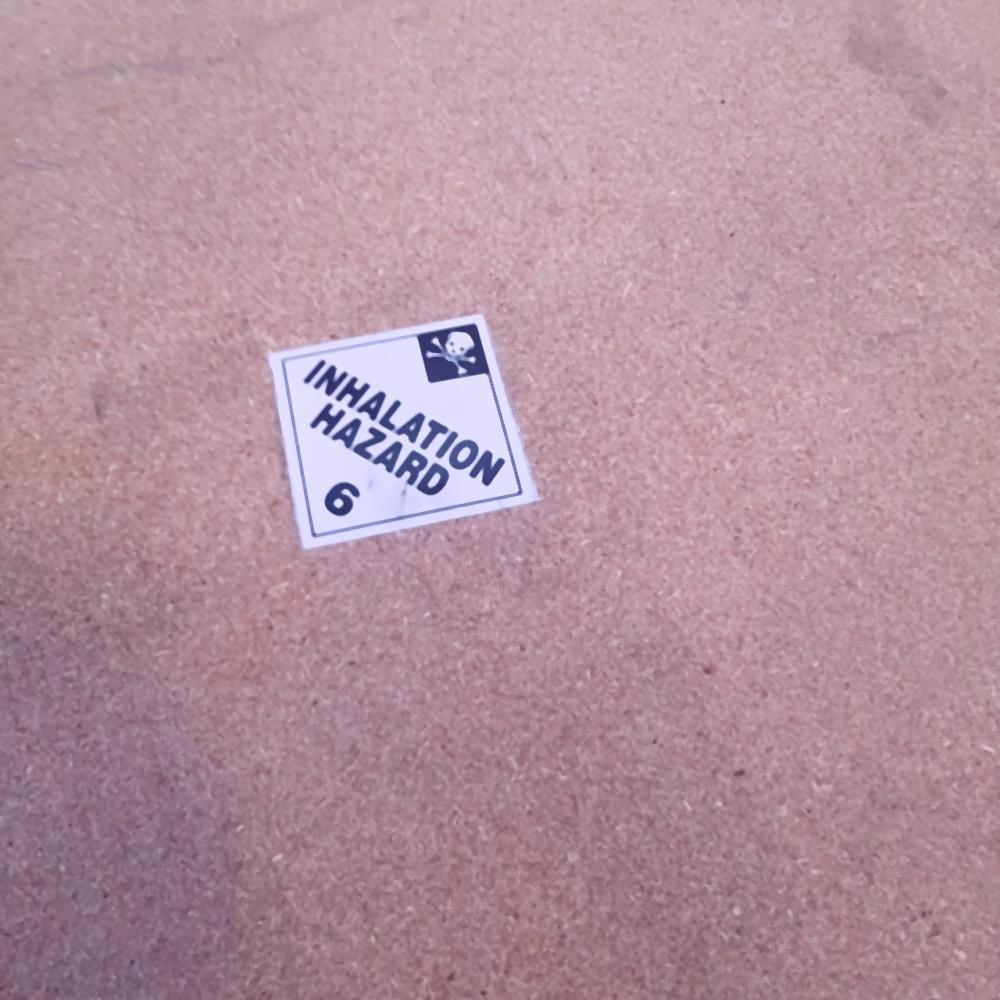poison: (269, 313, 539, 548)
